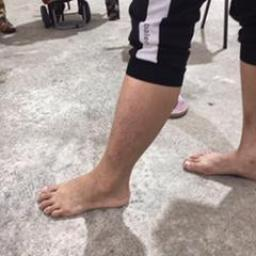Lateral View -Left Foot-: (33, 149, 146, 221)
